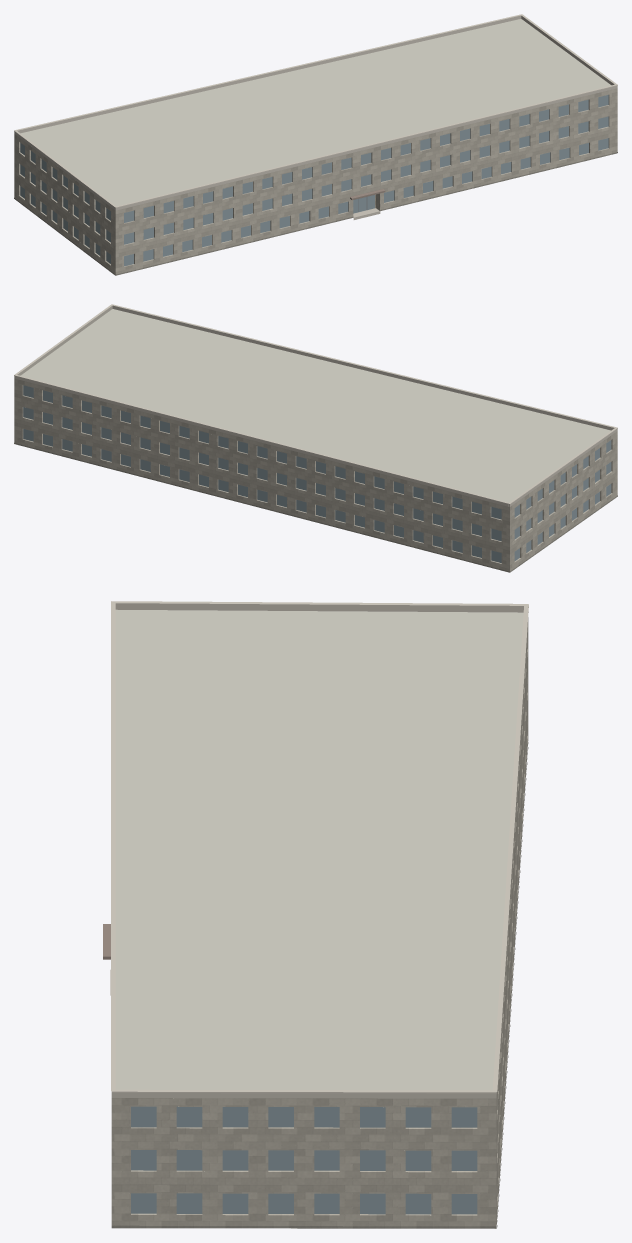
The picture shows the model from 3 angles, top to bottom: view 1: azimuth 30°, elevation 25°; view 2: azimuth 150°, elevation 25°; view 3: azimuth 270°, elevation 25°; orthographic projection. The views are drawn at different scales.
Parts seen in each view (by area): view 1: osm631011008__roof, osm631011008__wall, osm631011008__glass, osm631011008__parapet, osm631011008__trim, osm631011008__base; view 2: osm631011008__roof, osm631011008__wall, osm631011008__glass, osm631011008__parapet, osm631011008__trim, osm631011008__base; view 3: osm631011008__roof, osm631011008__wall, osm631011008__glass, osm631011008__trim, osm631011008__parapet, osm631011008__base.
Boxes of the visible parts, bbox=[...] form: osm631011008__roof: bbox=[21, 19, 611, 206]; osm631011008__wall: bbox=[14, 88, 617, 275]; osm631011008__glass: bbox=[20, 95, 608, 266]; osm631011008__parapet: bbox=[14, 15, 617, 210]; osm631011008__trim: bbox=[14, 14, 617, 207]; osm631011008__base: bbox=[14, 152, 617, 275]; osm631011008__roof: bbox=[20, 309, 610, 502]; osm631011008__wall: bbox=[14, 378, 617, 572]; osm631011008__glass: bbox=[23, 385, 611, 562]; osm631011008__parapet: bbox=[14, 305, 617, 506]; osm631011008__trim: bbox=[14, 304, 617, 504]; osm631011008__base: bbox=[14, 443, 617, 572]; osm631011008__roof: bbox=[115, 609, 523, 1228]; osm631011008__wall: bbox=[111, 618, 528, 1226]; osm631011008__glass: bbox=[131, 1106, 477, 1214]; osm631011008__trim: bbox=[111, 601, 528, 1093]; osm631011008__parapet: bbox=[111, 603, 523, 1098]; osm631011008__base: bbox=[111, 742, 528, 1228].
Bounding box in the file's own units: 87.58 × 11.75 × 32.1.
Materials: 10 (2 with a texture image).
